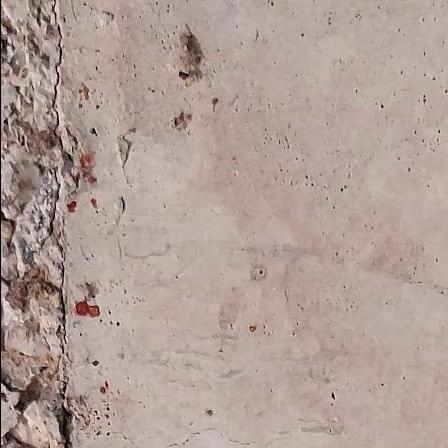crack: (18, 162, 74, 283), (39, 0, 74, 167), (41, 224, 69, 362)
spalling: (0, 338, 102, 448), (0, 7, 49, 90)
